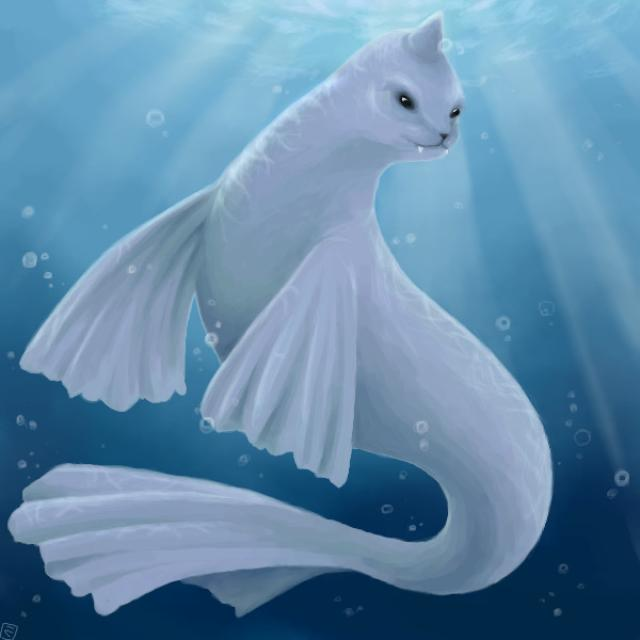Dewgong: (77, 16, 556, 587)
